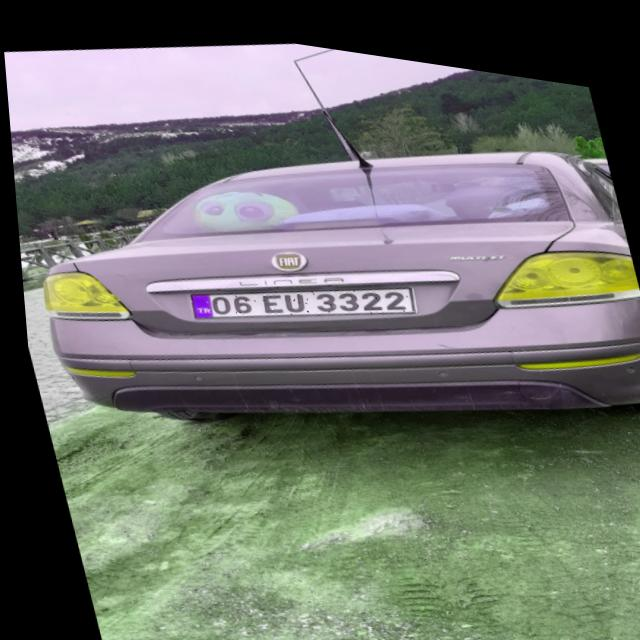plate: (178, 248, 414, 340)
